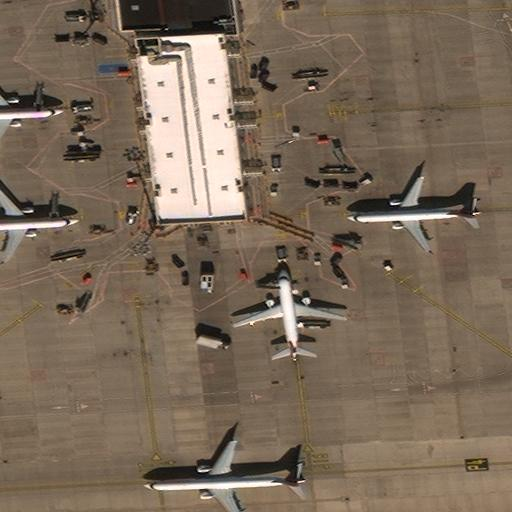Medium Civil Transport: (143, 440, 306, 511), (232, 269, 345, 362), (346, 176, 481, 252), (0, 188, 79, 262), (0, 83, 65, 146)
